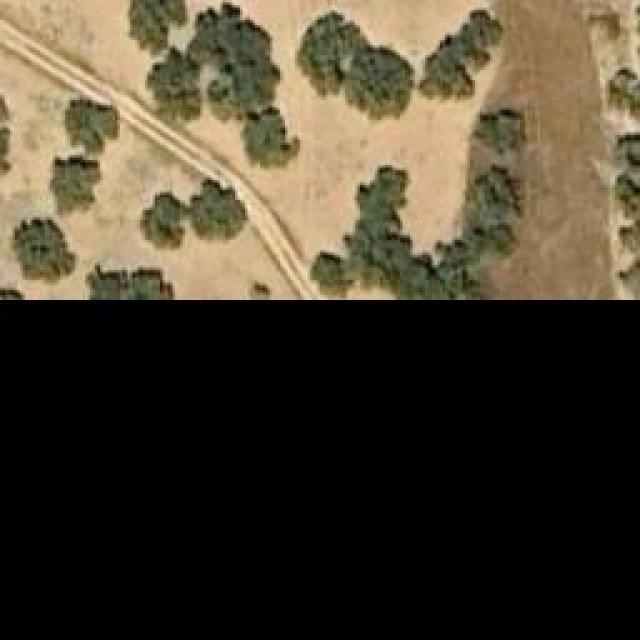Tree: (420, 10, 503, 100), (340, 43, 413, 118), (13, 217, 78, 285), (188, 178, 248, 243), (145, 55, 200, 118), (48, 155, 101, 215), (88, 263, 178, 298), (465, 170, 518, 225), (65, 100, 118, 153), (240, 113, 290, 168), (140, 193, 190, 248), (123, 0, 178, 50), (470, 110, 525, 155), (307, 252, 352, 299), (607, 67, 640, 120), (615, 175, 640, 218), (0, 258, 25, 298), (617, 257, 640, 297), (617, 137, 640, 170), (250, 283, 270, 298)
